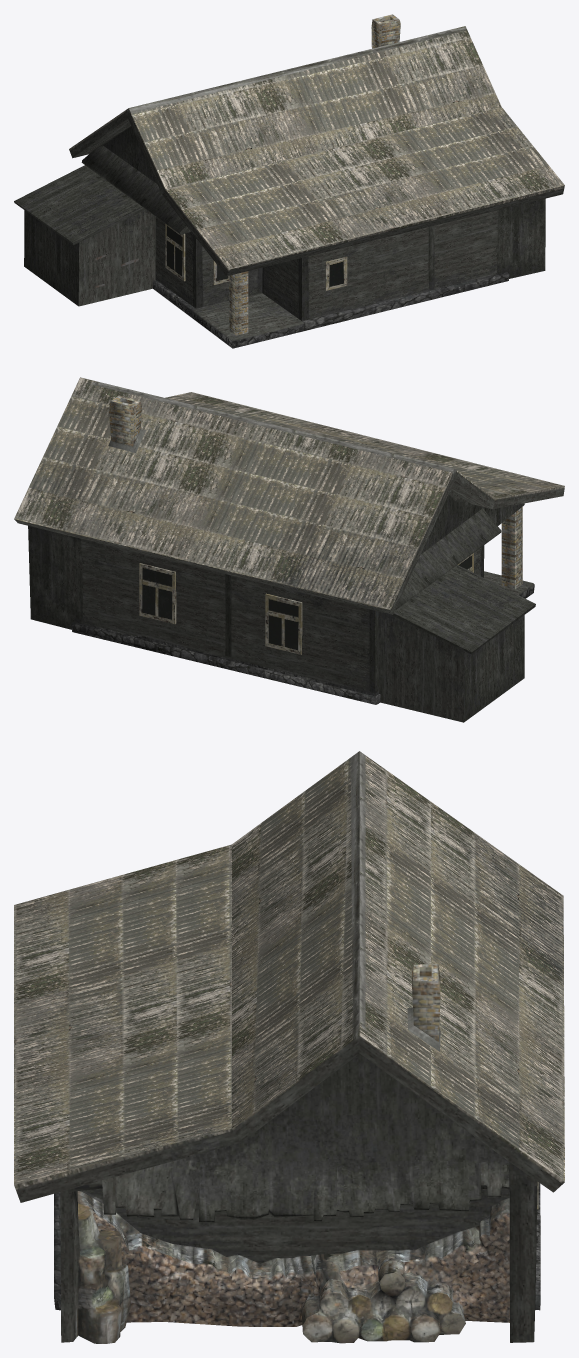
File: house_test_game.fbx
3 views of the same model, one above another, from view 1: azimuth 30°, elevation 25°; view 2: azimuth 150°, elevation 25°; view 3: azimuth 270°, elevation 25° (orthographic). The views are drawn at different scales.
Parts seen in each view (by area): view 1: Dom_03_low__Dom_03_low__0; view 2: Dom_03_low__Dom_03_low__0; view 3: Dom_03_low__Dom_03_low__0.
Part boxes in pixels (x1,y1,x2,y2): Dom_03_low__Dom_03_low__0: (14,14,564,348); Dom_03_low__Dom_03_low__0: (14,377,564,722); Dom_03_low__Dom_03_low__0: (14,751,564,1343).
Size of the model in its own units: 14279 by 6200 by 9388.
